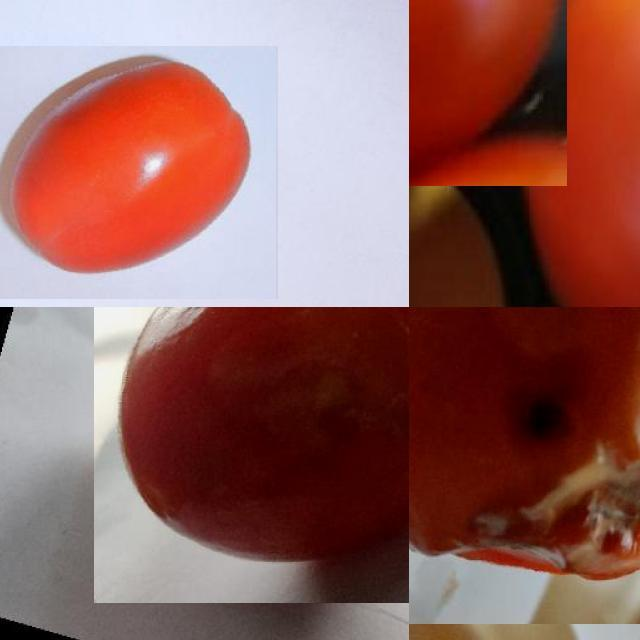tomato: (1, 47, 279, 300), (526, 1, 640, 308), (410, 1, 567, 187)
